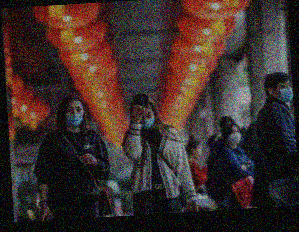with_mask: (63, 103, 85, 129), (274, 80, 293, 104), (136, 110, 156, 130), (227, 129, 243, 146)
